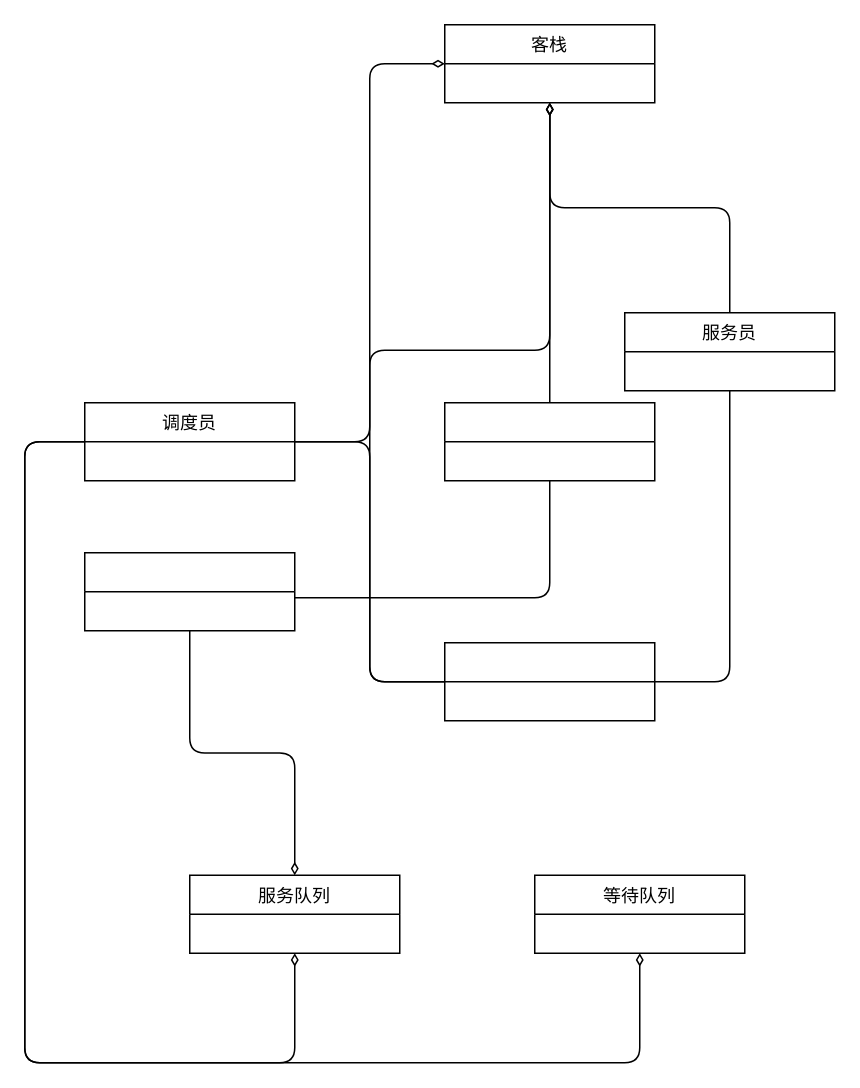
Image size: 860x1088. Some labels were removed from this diagram. The shapes that lost their labels are listed below. From the top down, each one's box as (x1, y1, x2, y2) in pixels, then its label:
(443, 401, 655, 481): 客户
(83, 551, 295, 631): 蒲扇请求
(443, 641, 655, 721): 蒲扇
